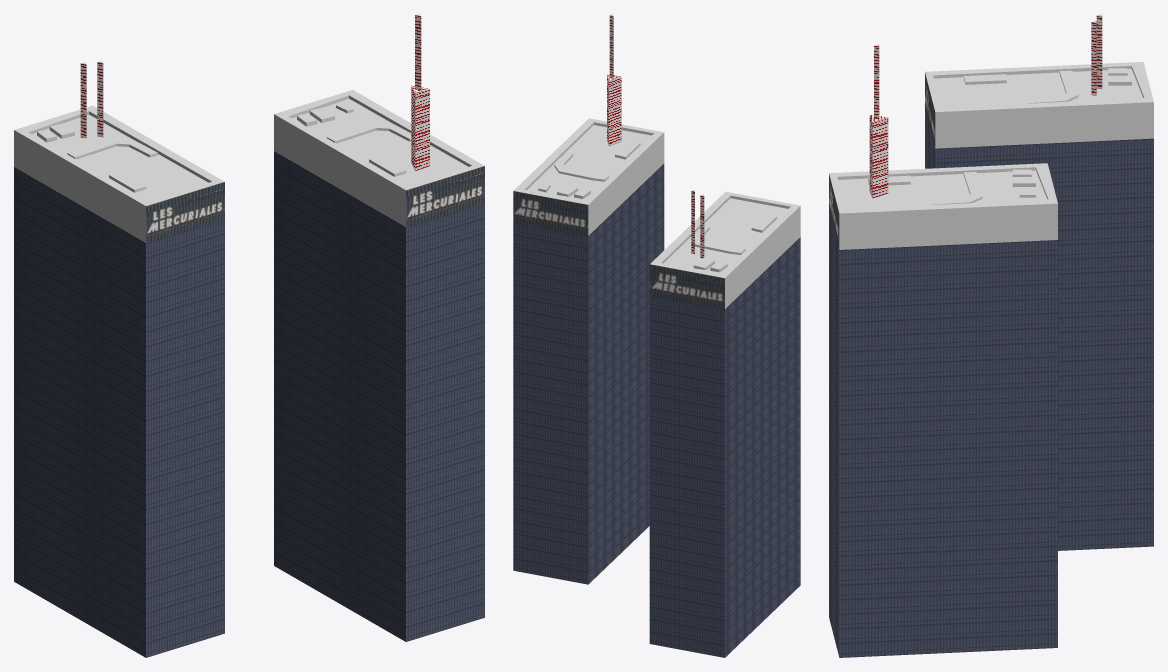
File: mercuriales.gltf
The picture shows the model from 3 angles, left to right: view 1: azimuth 30°, elevation 25°; view 2: azimuth 150°, elevation 25°; view 3: azimuth 270°, elevation 25°; orthographic projection. The views are drawn at different scales.
Visible parts, largest first — view 1: bati, bati.001, Sketchup; view 2: bati.001, bati, Sketchup; view 3: bati, bati.001, Sketchup.
Part boxes in pixels (x1,y1,x2,y2): bati: (274,151,484,641); bati.001: (14,167,224,657); Sketchup: (14,14,484,242); bati.001: (649,237,800,657); bati: (513,163,664,584); Sketchup: (513,14,800,309); bati: (829,210,1057,657); bati.001: (925,109,1153,550); Sketchup: (829,14,1153,249).
Size of the model in its own units: 89.38 by 162 by 80.83.
4 materials, 3 textured.
